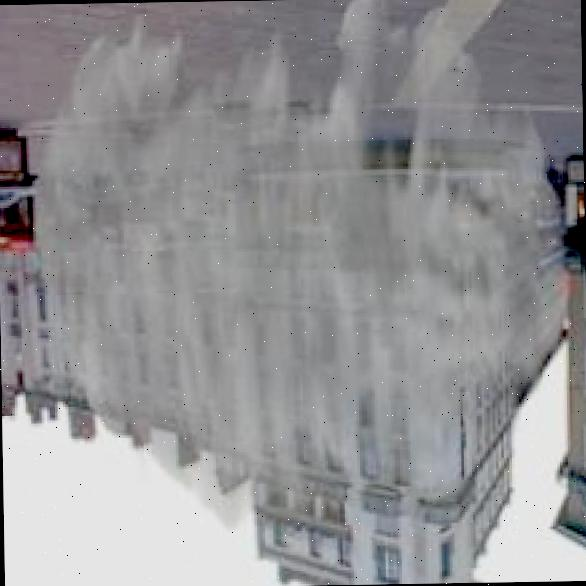smoke: (29, 0, 574, 538)
